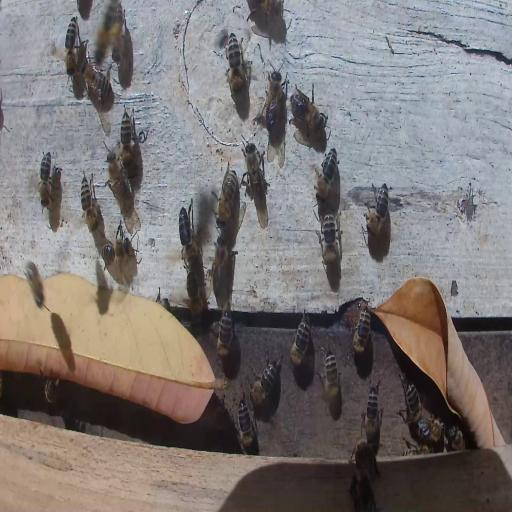bee: (290, 84, 327, 135), (95, 0, 120, 65), (214, 164, 237, 225), (318, 210, 341, 271), (250, 354, 278, 404), (320, 345, 342, 408), (313, 148, 338, 203), (264, 68, 284, 136), (178, 199, 198, 267), (211, 238, 233, 298), (366, 182, 390, 236), (81, 60, 110, 101), (80, 173, 100, 232), (350, 303, 373, 354), (290, 312, 311, 367), (236, 397, 256, 454), (226, 34, 245, 94), (364, 382, 382, 445), (242, 137, 262, 190), (106, 152, 128, 200), (25, 261, 45, 310), (101, 238, 135, 266), (400, 382, 422, 424), (217, 312, 233, 366), (414, 416, 444, 444), (38, 150, 52, 208), (64, 16, 78, 74), (352, 474, 373, 512), (120, 108, 133, 169), (187, 268, 202, 320), (354, 438, 376, 472), (444, 425, 465, 452), (401, 440, 431, 456), (44, 375, 59, 406)
